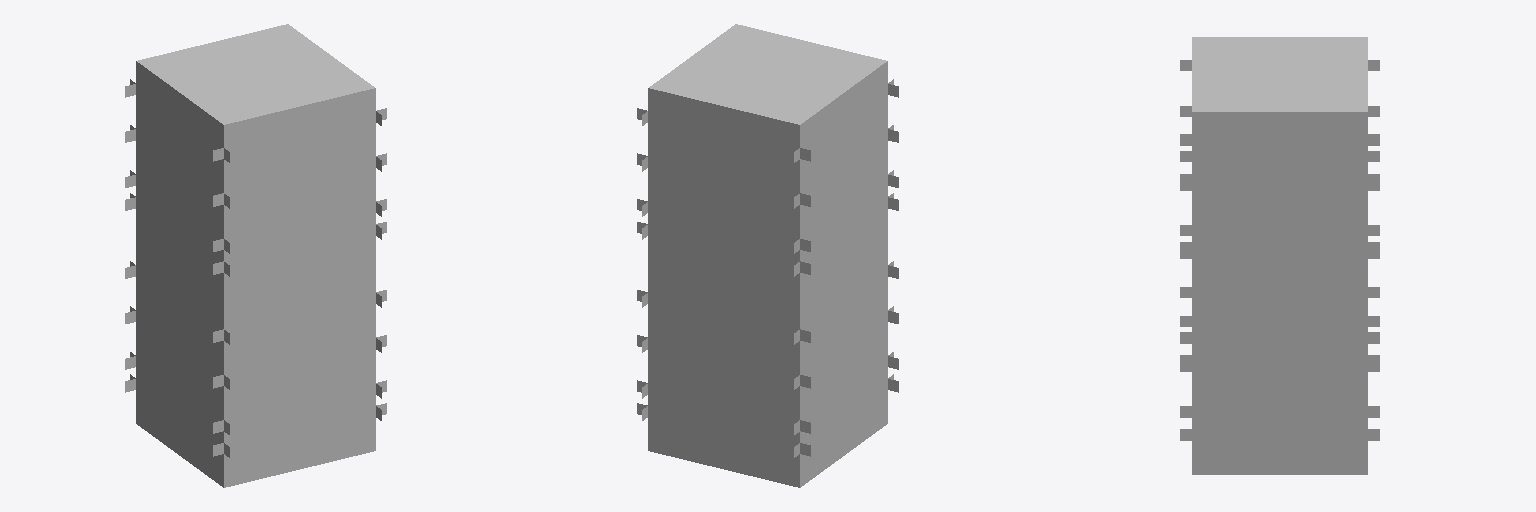
Rendered from cactus_long.obj.
The picture shows the model from 3 angles: view 1: azimuth 30°, elevation 25°; view 2: azimuth 150°, elevation 25°; view 3: azimuth 270°, elevation 25°; orthographic projection.
Parts seen in each view (by area): view 1: group_4.001_ID45.005; view 2: group_4.001_ID45.005; view 3: group_4.001_ID45.005.
Part boxes in pixels (x1,y1,x2,y2): group_4.001_ID45.005: (125,24,386,487); group_4.001_ID45.005: (637,24,898,487); group_4.001_ID45.005: (1180,37,1379,474).
Size of the model in its own units: 1 by 2 by 1.